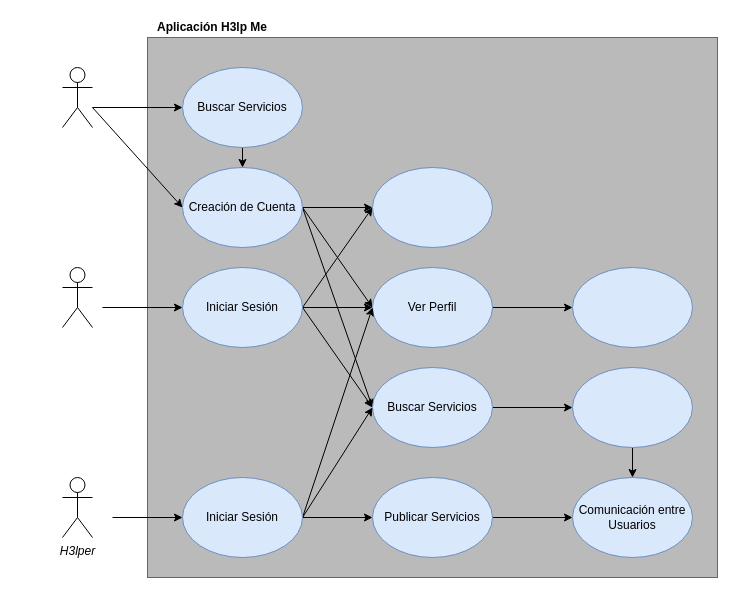
The diagram is 735 pixels wide and 595 high, and some of its shapes have lost their labels. The shapes that lost their labels are listed below. From the top down, each one's centre as x and y in pixels, then its label:
At point (77, 97): "Usuario No Registrado".
At point (432, 207): "Convertirse en H3lper".
At point (77, 297): "Usuario Registrado".
At point (632, 307): "Modificar Perfil".
At point (632, 407): "Contratar Servicios".
